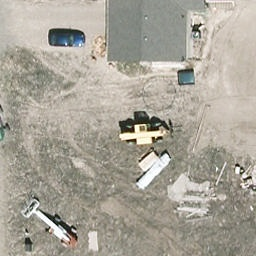car: (47, 30, 85, 47)
other: (22, 197, 86, 253), (119, 120, 177, 146)
